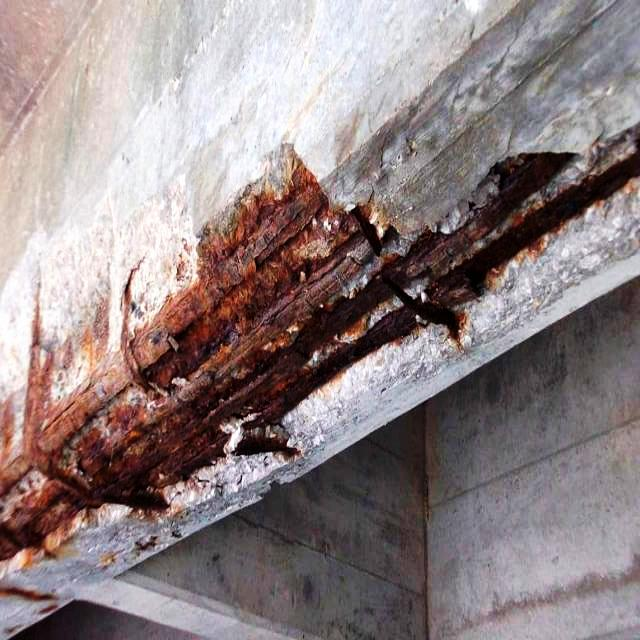Corrosion: (0, 142, 640, 566), (103, 531, 158, 569), (0, 583, 58, 616)
